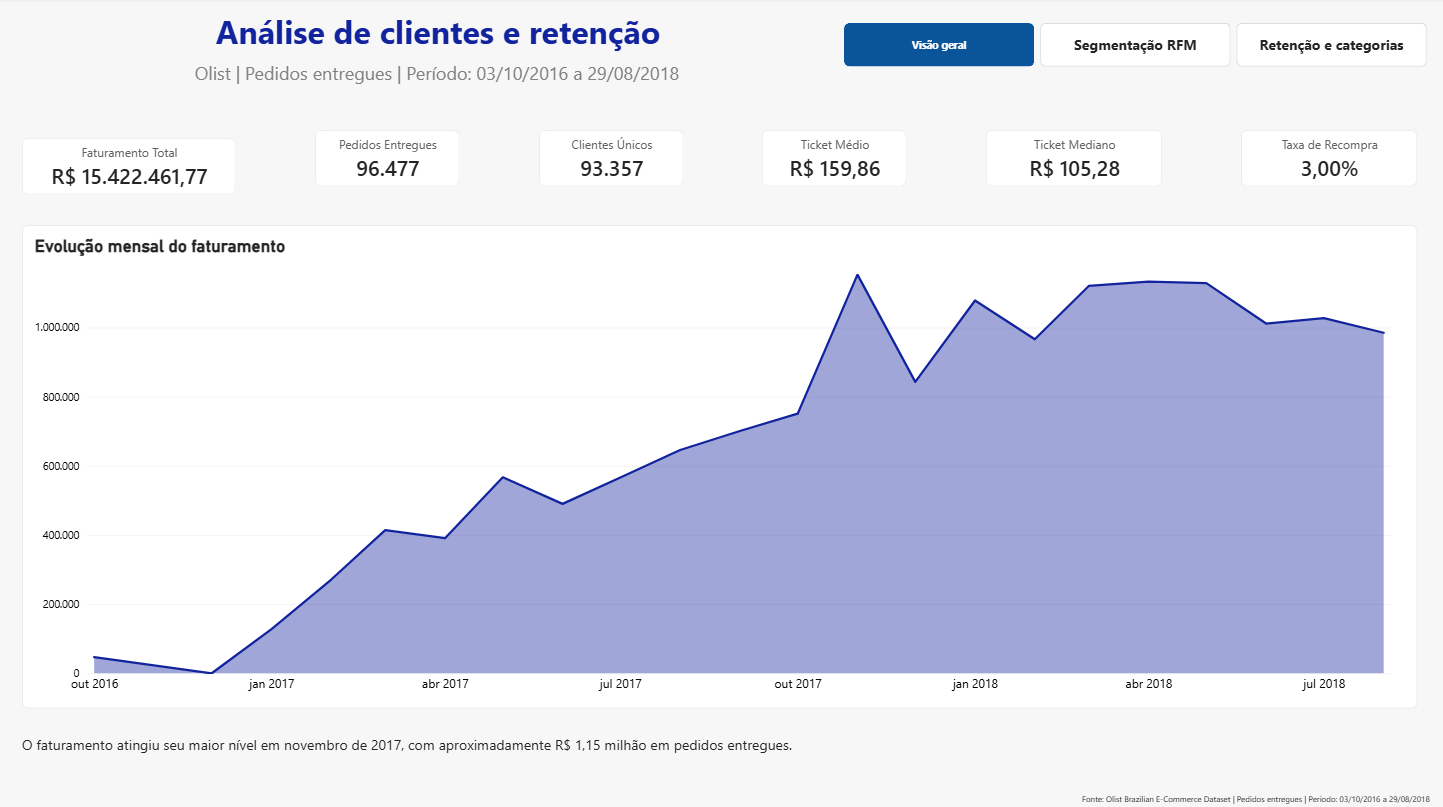

This screenshot's page, from the dashboard's own definition file:
{"tool":"powerbi","page":{"name":"Visão geral","canvas":[1920,1080],"ordinal":0},"visuals":[{"type":"textbox","box":[207,15.3,753,66.7],"z":0},{"type":"textbox","box":[255.6,82,654.4,45.8],"z":1000},{"type":"cardVisual","fields":{"Data":["indicadores_gerais.Faturamento Total"]},"box":[30.6,186.2,284.9,75.7],"z":2000},{"type":"cardVisual","fields":{"Data":["indicadores_gerais.Pedidos Entregues"]},"box":[420.1,175,192.9,75.7],"z":3000},{"type":"cardVisual","fields":{"Data":["Sum(indicadores_gerais.ticket_medio)"]},"box":[1015.2,175,192.9,75.7],"z":4000},{"type":"cardVisual","fields":{"Data":["Sum(indicadores_gerais.ticket_mediano)"]},"box":[1312.8,175,234.4,75.7],"z":5000},{"type":"cardVisual","fields":{"Data":["indicadores_gerais.Taxa de Recompra"]},"box":[1651.9,175.1,234.4,75.7],"z":6000},{"type":"areaChart","title":"Evolução mensal do faturamento","fields":{"Category":["evolucao_mensal.mes.Variation.Hierarquia de datas.Ano","evolucao_mensal.mes.Variation.Hierarquia de datas.Mês"],"Y":["Sum(evolucao_mensal.valor_mensal_recebido)"]},"box":[30.6,301.5,1856.1,643.2],"z":7000},{"type":"textbox","box":[30.6,980.8,1237.5,60.8],"z":8000},{"type":"cardVisual","fields":{"Data":["indicadores_gerais.Clientes Únicos"]},"box":[717.7,175,192.9,75.7],"z":9000},{"type":"textbox","box":[1440.7,1054.5,479.3,25],"z":10000},{"type":"pageNavigator","box":[1123.9,33.3,776.6,58.4],"z":12001}]}

Visuals, with their boxes in screenshot pixels (x1, y1, x2, y2), scaled from the page's 1920x1080 canvas onto the 1443x807 screenshot:
textbox: (156,11,722,61)
textbox: (192,61,684,95)
cardVisual - indicadores_gerais.Faturamento Total: (23,139,237,196)
cardVisual - indicadores_gerais.Pedidos Entregues: (316,131,461,187)
cardVisual - Sum(indicadores_gerais.ticket_medio): (763,131,908,187)
cardVisual - Sum(indicadores_gerais.ticket_mediano): (987,131,1163,187)
cardVisual - indicadores_gerais.Taxa de Recompra: (1242,131,1418,187)
"Evolução mensal do faturamento" areaChart: (23,225,1418,706)
textbox: (23,733,953,778)
cardVisual - indicadores_gerais.Clientes Únicos: (539,131,684,187)
textbox: (1083,788,1442,806)
pageNavigator: (845,25,1428,69)
